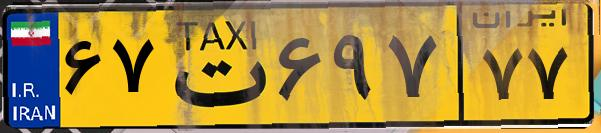6: (270, 28, 330, 110), (57, 26, 110, 100)
7: (385, 28, 445, 110), (475, 38, 525, 113), (525, 38, 570, 115), (110, 28, 158, 98)
9: (330, 28, 385, 110)
ت: (158, 12, 270, 120)
